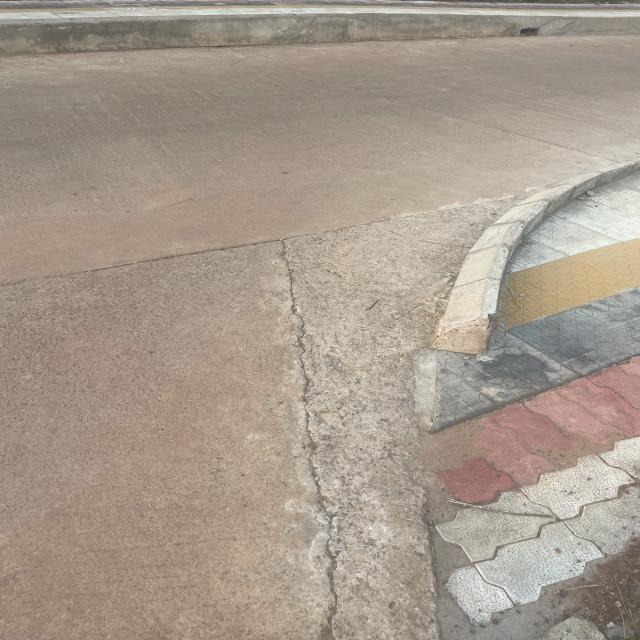D43: (235, 216, 402, 640)
